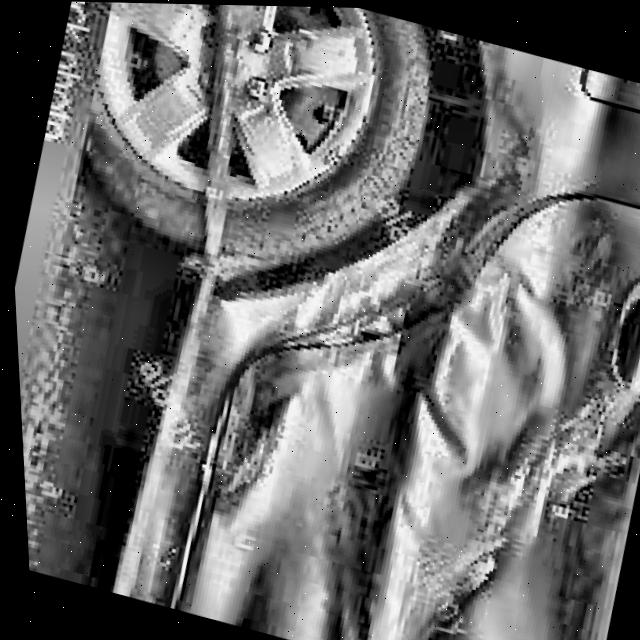door_dent: (132, 123, 640, 640)
